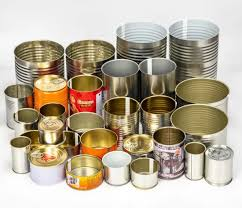can: (2, 16, 236, 190)
